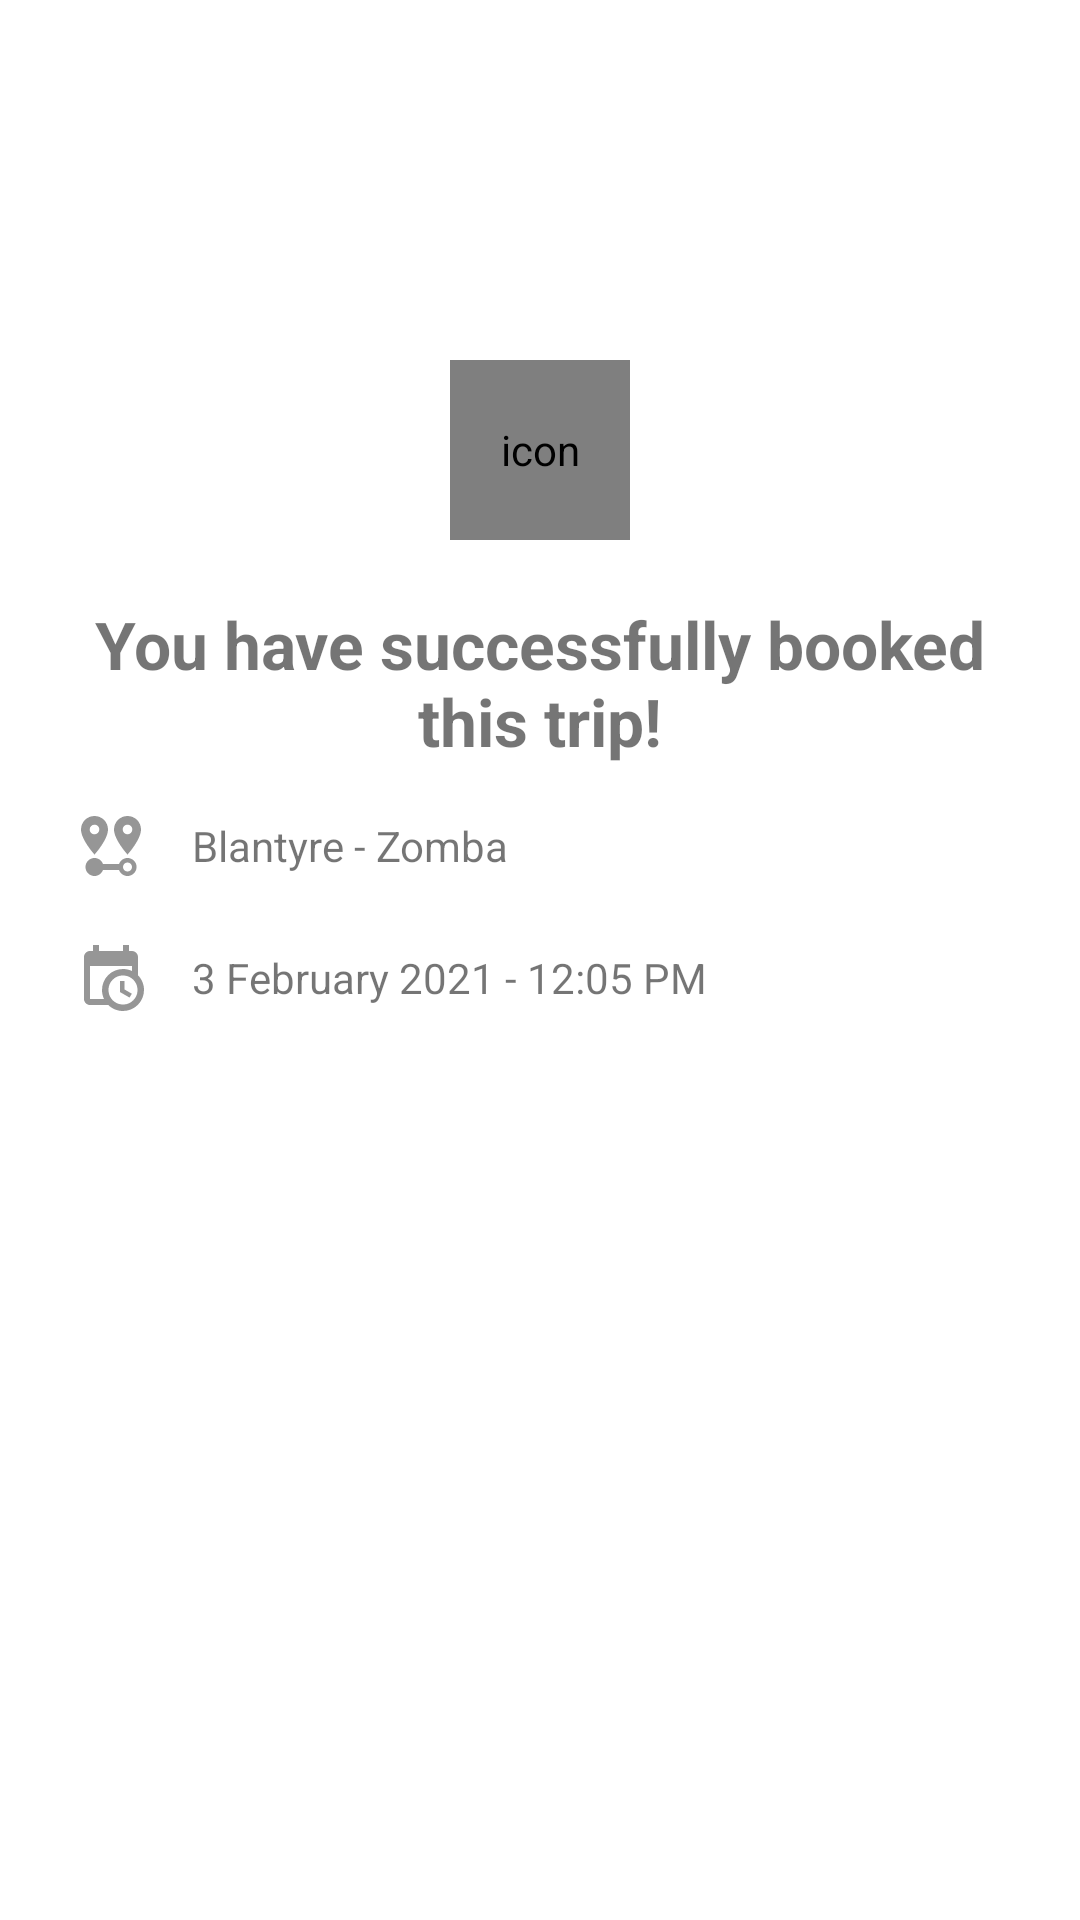

Screen size 1080×1920. Icon name, then its center in pixels as (x,y):
calendar clock: (114,978)
map marker distance: (111,846)
